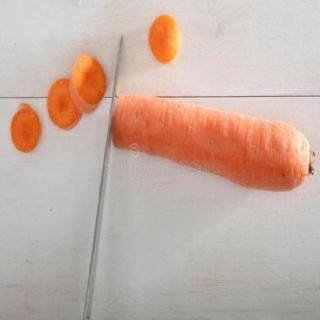carrot: (108, 92, 316, 194)
